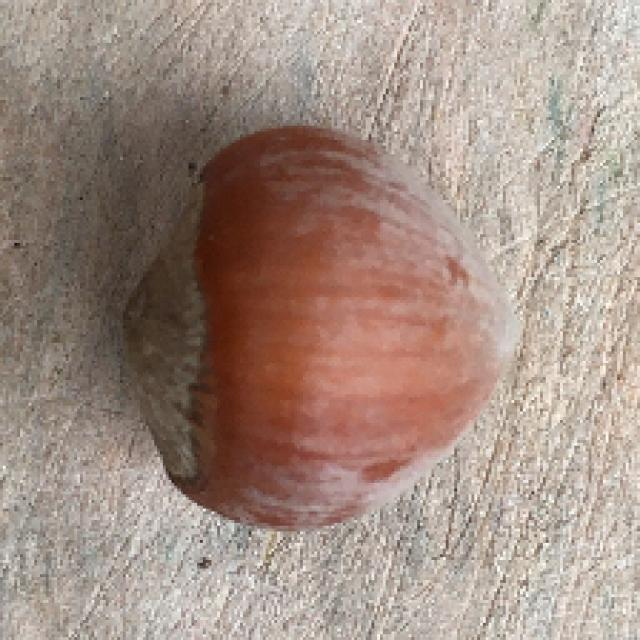qualityHazelnut: (117, 123, 520, 536)
